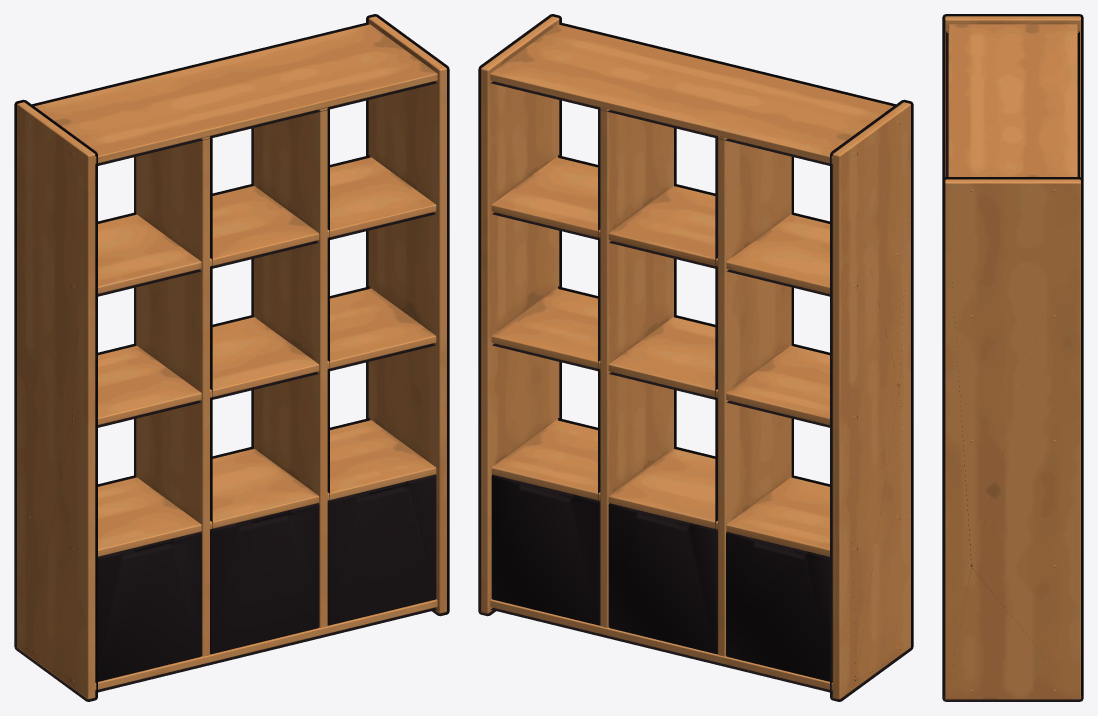
Rendered from SM_Int_DisplayShelves.fbx.
3 views of the same model, side by side, from view 1: azimuth 30°, elevation 25°; view 2: azimuth 150°, elevation 25°; view 3: azimuth 270°, elevation 25° (orthographic). The views are drawn at different scales.
Parts seen in each view (by area): view 1: SM_Int_DisplayShelves; view 2: SM_Int_DisplayShelves; view 3: SM_Int_DisplayShelves.
Part boxes in pixels (<box>): SM_Int_DisplayShelves: <box>14,14,449,701</box>; SM_Int_DisplayShelves: <box>478,14,913,701</box>; SM_Int_DisplayShelves: <box>942,14,1083,701</box>.
Size of what is drawn, in the model's own units: 1.26 by 1.82 by 0.4452.
